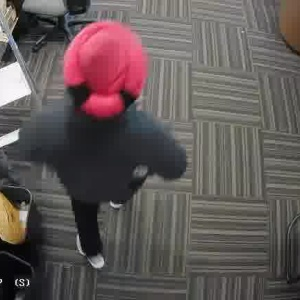person: (31, 30, 172, 223)
